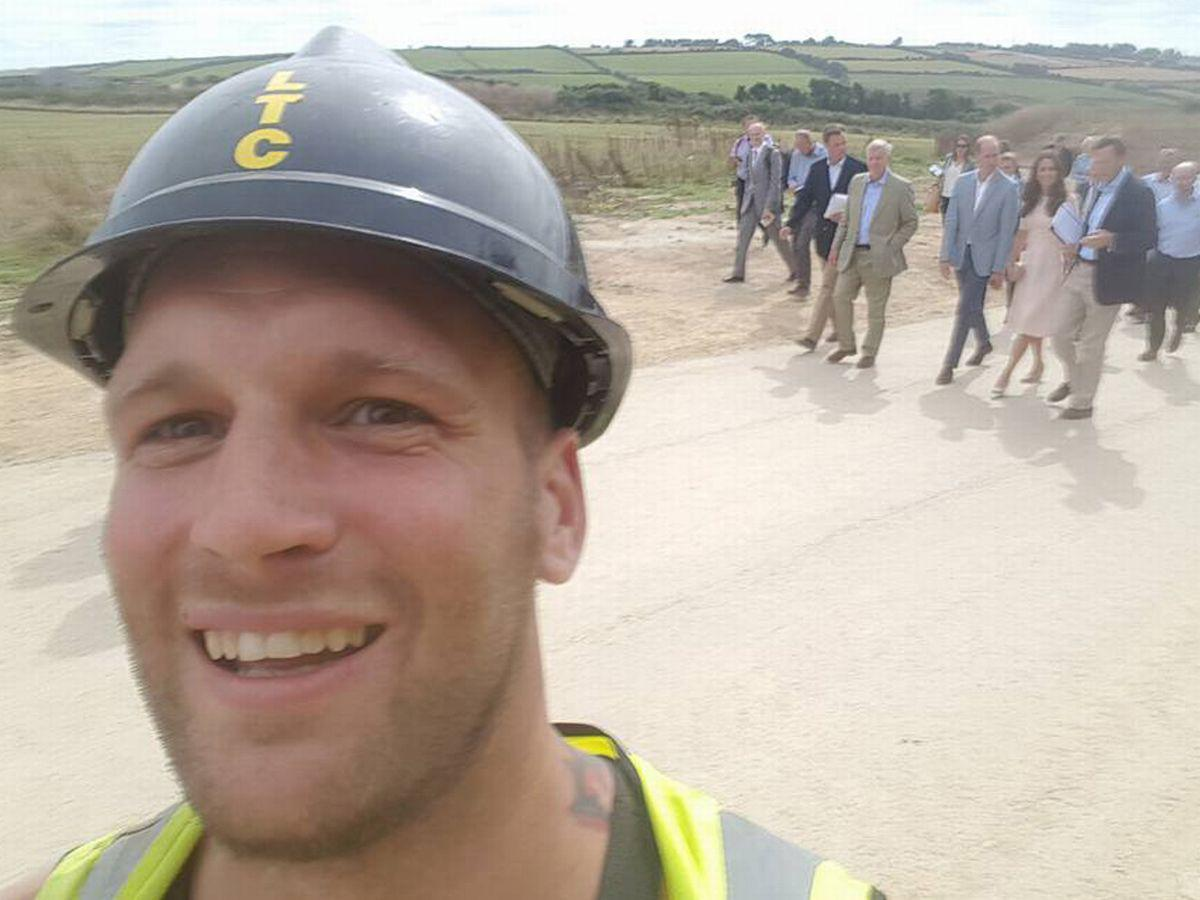helmet: (9, 28, 633, 443)
